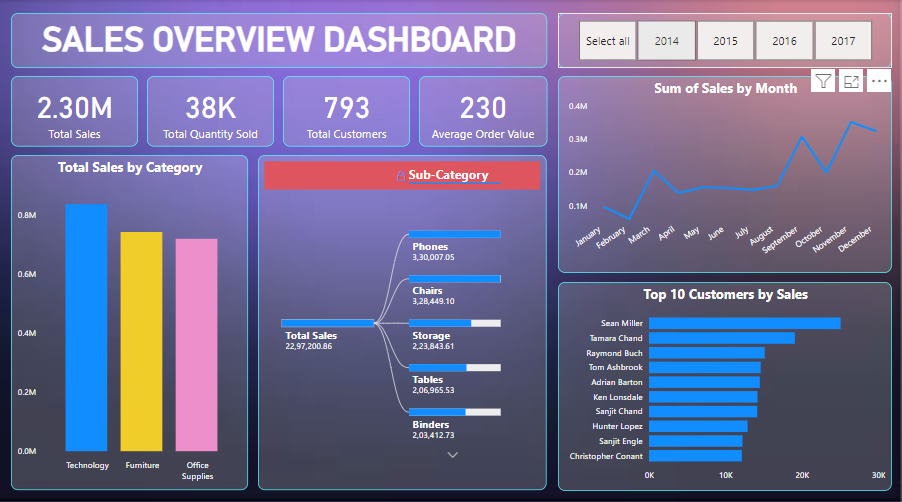

Layout of this report page (visuals, bound fields, positions):
{"tool":"powerbi","page":{"name":"sales overview","canvas":[1280,720],"ordinal":0},"visuals":[{"type":"card","fields":{"Values":["Sum(Orders.Sales)"]},"box":[15.7,107.3,180.2,100.1],"z":0},{"type":"columnChart","title":"Total Sales by Category","fields":{"Category":["Orders.Category"],"Y":["Sum(Orders.Sales)"]},"box":[15.7,220.2,336.1,474.8],"z":1000},{"type":"decompositionTreeVisual","title":"Total Sales by Sub-Category","fields":{"ExplainBy":["Orders.Sub-Category"],"Analyze":["Sum(Orders.Sales)"]},"box":[366.1,220.2,409,474.8],"z":2000},{"type":"barChart","title":"Top 10 Customers by Sales","fields":{"Category":["Orders.Customer Name"],"Y":["Sum(Orders.Sales)"]},"box":[790.9,399,473.4,296],"z":3000},{"type":"card","fields":{"Values":["Sum(Orders.Quantity)"]},"box":[208.8,107.3,180.2,100.1],"z":4000},{"type":"card","fields":{"Values":["Count(Orders.Customer ID)"]},"box":[400.4,107.3,180.2,100.1],"z":5000},{"type":"card","fields":{"Values":["Avg(Orders.Sales)"]},"box":[593.5,107.3,181.6,100.1],"z":6000},{"type":"textbox","box":[15.6,18.4,759.7,78],"z":7000},{"type":"lineChart","fields":{"Y":["Sum(Orders.Sales)"],"Category":["Orders.Order Date.Variation.Date Hierarchy.Month"]},"box":[790.9,107.3,473.4,278.9],"z":8000},{"type":"slicer","fields":{"Values":["Orders.Order Date.Variation.Date Hierarchy.Year"]},"box":[790.9,18.4,473.4,78],"z":9000}]}

Visuals, with their boxes in screenshot pixels (x1, y1, x2, y2), scaled from the page's 1280x720 canvas onto the 902x502 screenshot:
card - Sum(Orders.Sales): 11, 75, 138, 145
"Total Sales by Category" columnChart: 11, 154, 248, 485
"Total Sales by Sub-Category" decompositionTreeVisual: 258, 154, 546, 485
"Top 10 Customers by Sales" barChart: 557, 278, 891, 485
card - Sum(Orders.Quantity): 147, 75, 274, 145
card - Count(Orders.Customer ID): 282, 75, 409, 145
card - Avg(Orders.Sales): 418, 75, 546, 145
textbox: 11, 13, 546, 67
lineChart - Sum(Orders.Sales) x Orders.Order Date.Variation.Date Hierarchy.Month: 557, 75, 891, 269
slicer - Orders.Order Date.Variation.Date Hierarchy.Year: 557, 13, 891, 67
